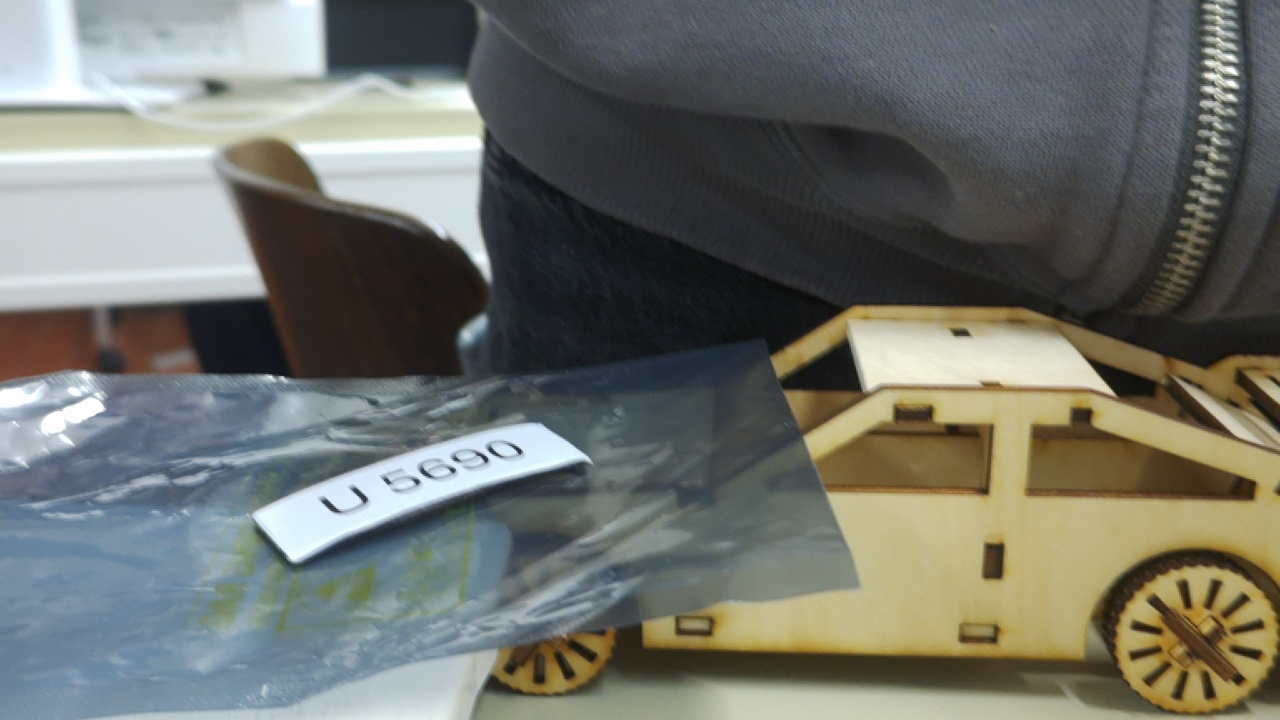license_plate: (241, 413, 598, 585)
